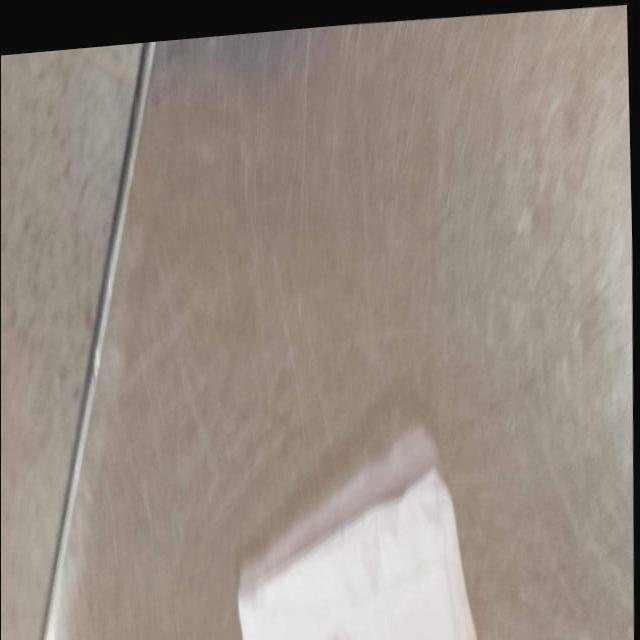General: (2, 2, 634, 640)
Infectious: (236, 429, 480, 640)
Sharps: (37, 41, 161, 639)
